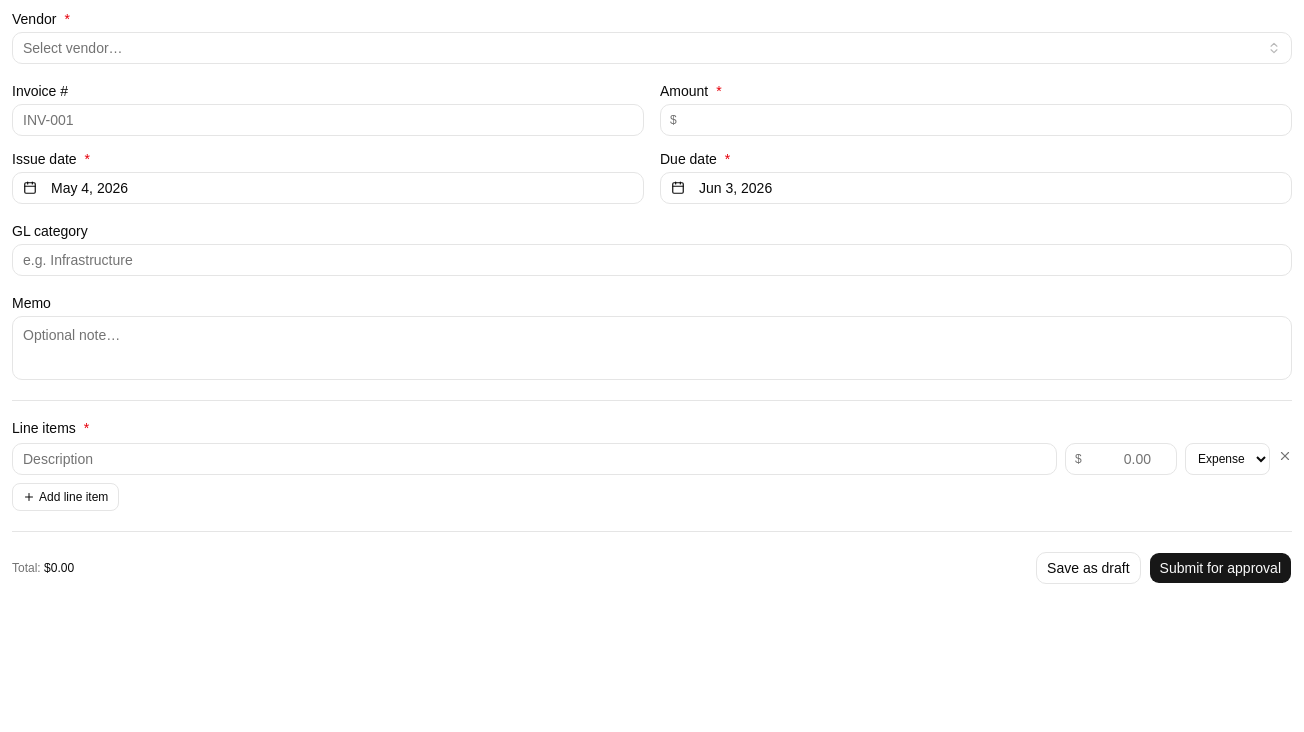
Scenario: BillIntakeForm › auto-sums bill amount when a line item amount is entered (before bill amount is touched)
Type "50" into the number field with placeholder "0.00" at (1121, 459), box [1065,443,1177,475]
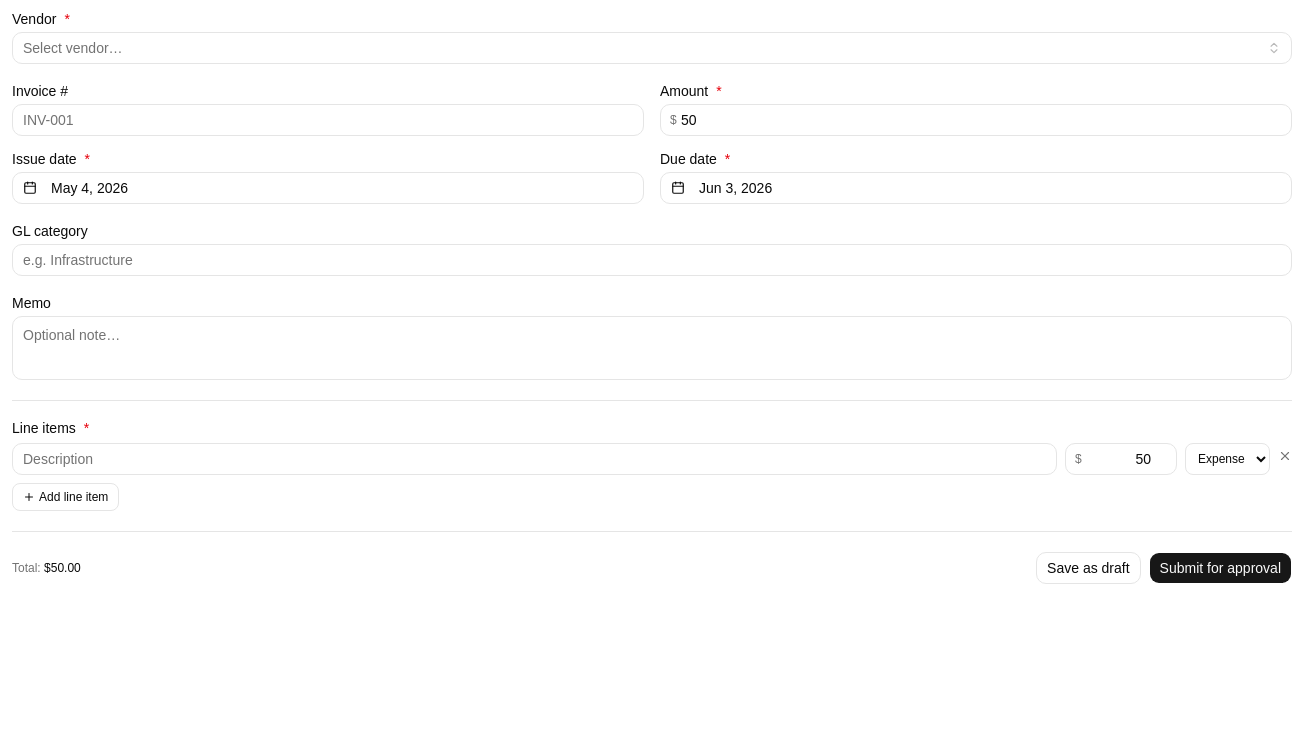
Result: the number field below "Amount" holds "50" at [660,104,1292,136]
